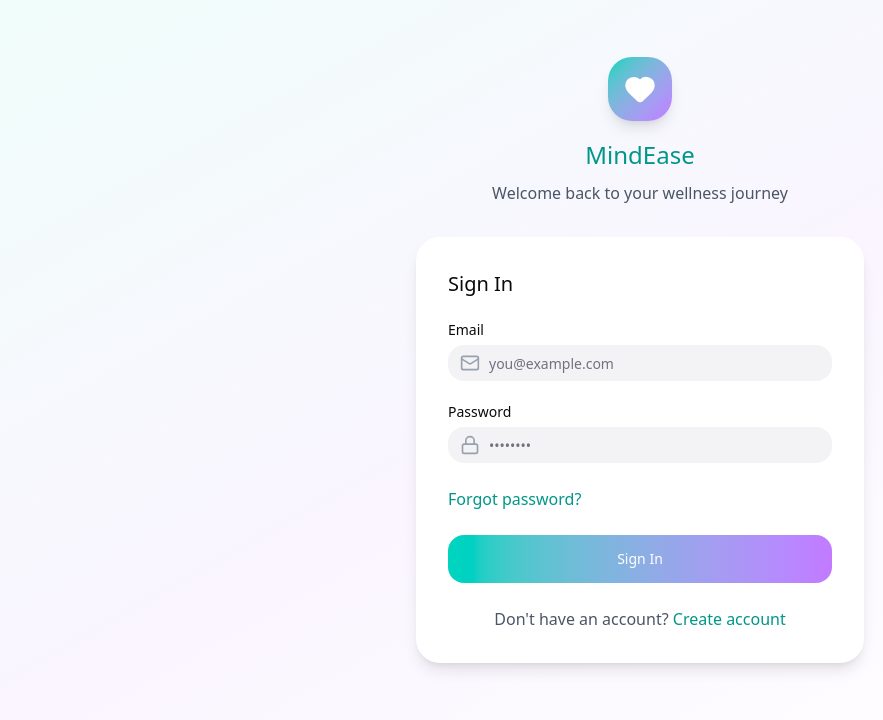
Scenario: Login › shows error when login fails
Type "user@example.com" into the field labelled "Email" at (640, 363), box left=448, top=345, right=832, bottom=381
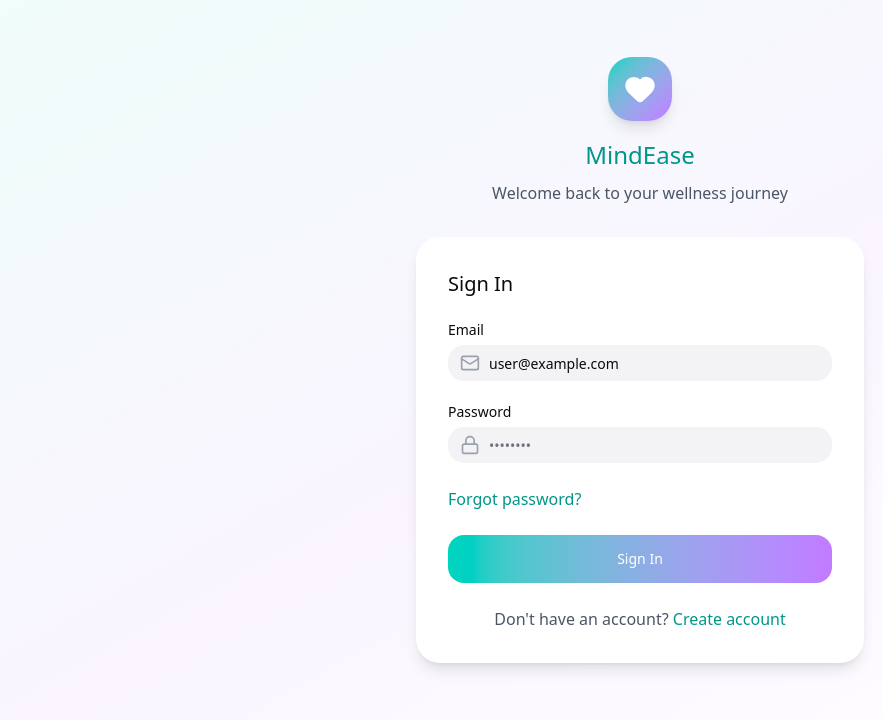
Type "wrong" into the password field labelled "Password" at (640, 445), box left=448, top=427, right=832, bottom=463
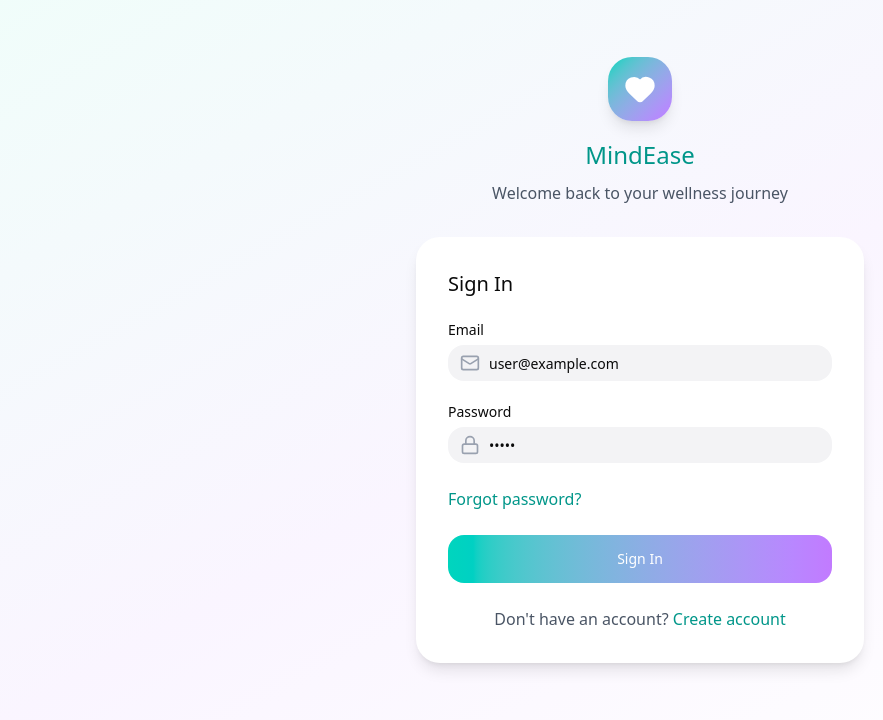
Click the button "Sign In" at (640, 559), box left=448, top=535, right=832, bottom=583
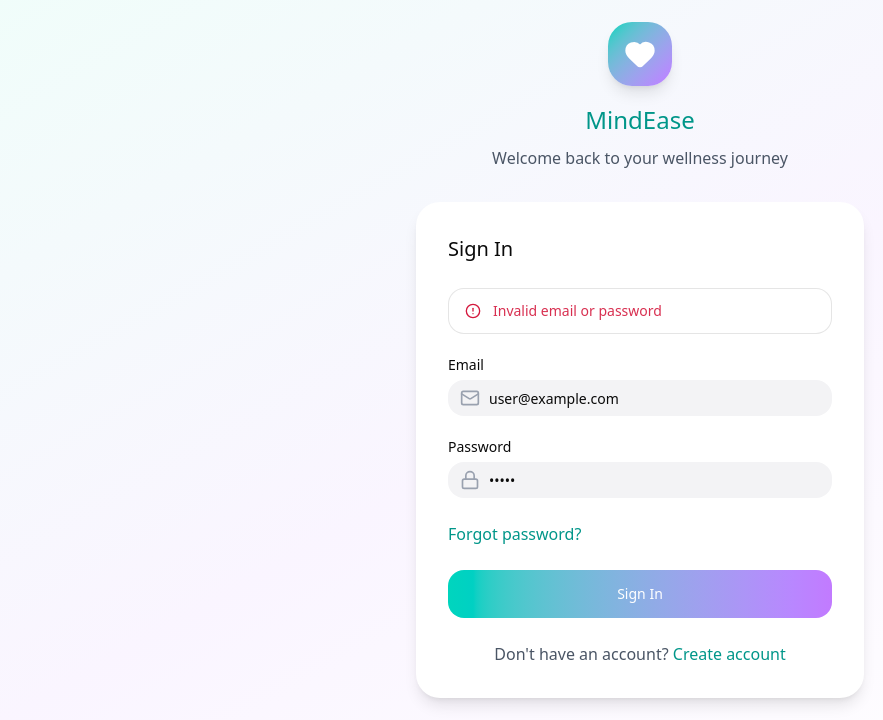
Check: the text "Invalid email or password" is shown, box left=493, top=301, right=662, bottom=320
